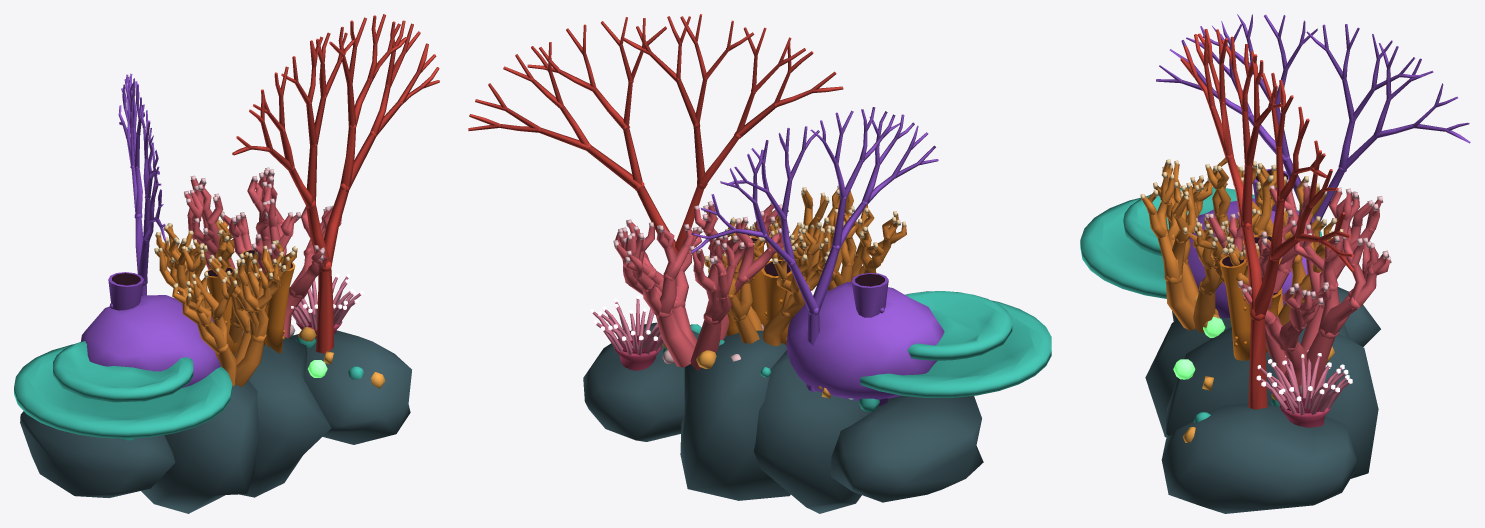
Rendered from reef_small.glb.
The picture shows the model from 3 angles, left to right: view 1: azimuth 30°, elevation 25°; view 2: azimuth 150°, elevation 25°; view 3: azimuth 270°, elevation 25°; orthographic projection. The views are drawn at different scales.
Parts seen in each view (by area): view 1: reef_small_mesh; view 2: reef_small_mesh; view 3: reef_small_mesh.
Boxes of the visible parts, <box> form: reef_small_mesh: <box>14,14,439,513</box>; reef_small_mesh: <box>468,14,1051,513</box>; reef_small_mesh: <box>1080,14,1470,513</box>.
Size of the model in its own units: 4.11 by 3.67 by 2.6.
